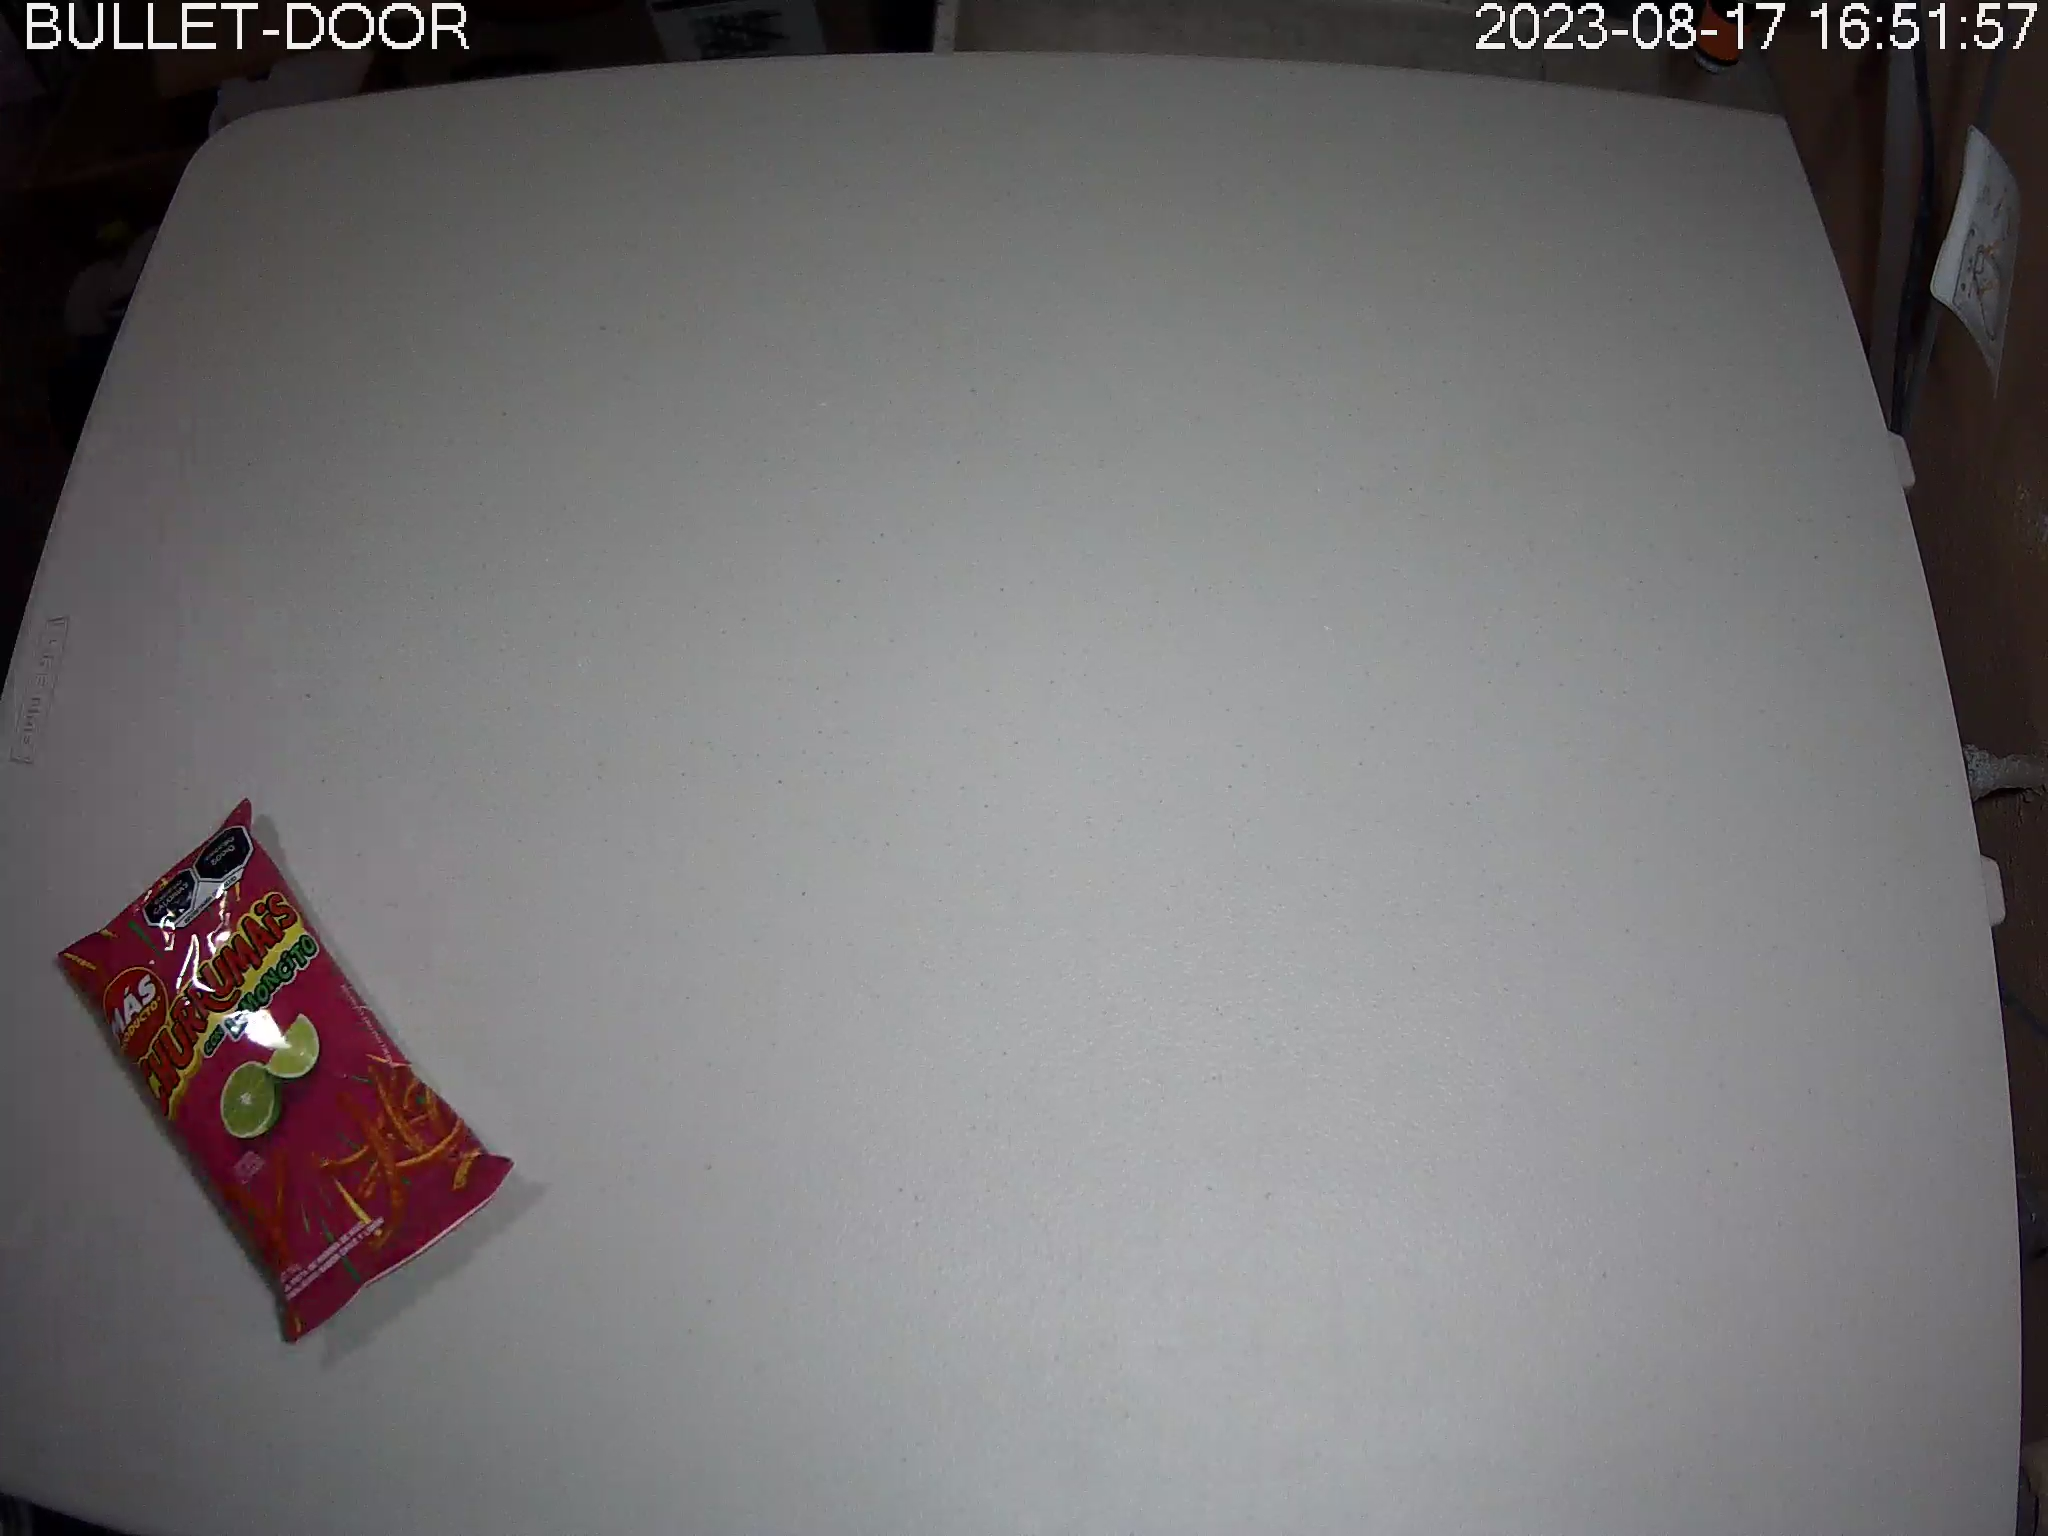Churrumais_70_F: (55, 795, 516, 1347)
